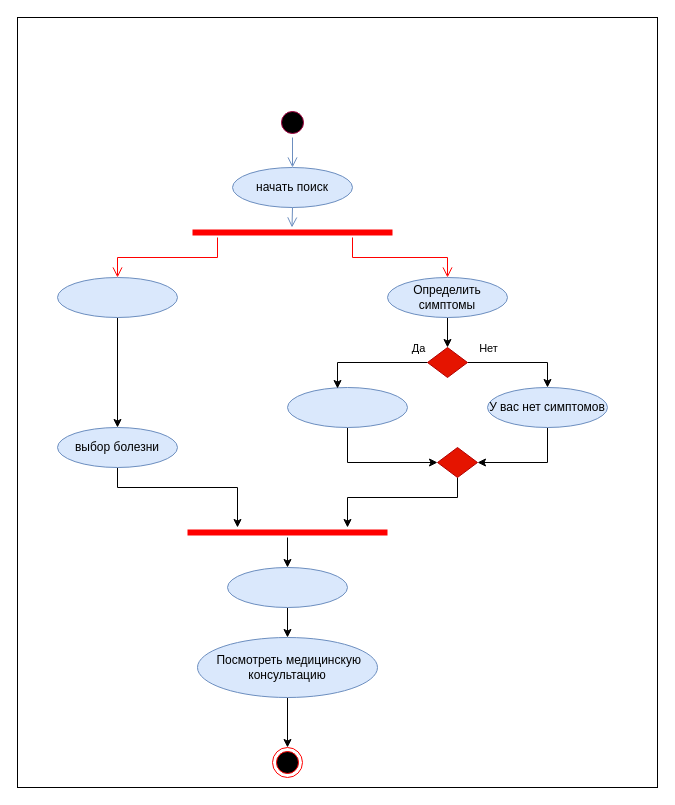
This 675x805 diagram has some shape labels left out. The shapes that lost their labels are listed below. From the top down, each one's centre as x and y in pixels, then its label:
(117,297): идентификация болезни
(347,407): Выбор симптомов
(287,587): Болезнь подтверждена
